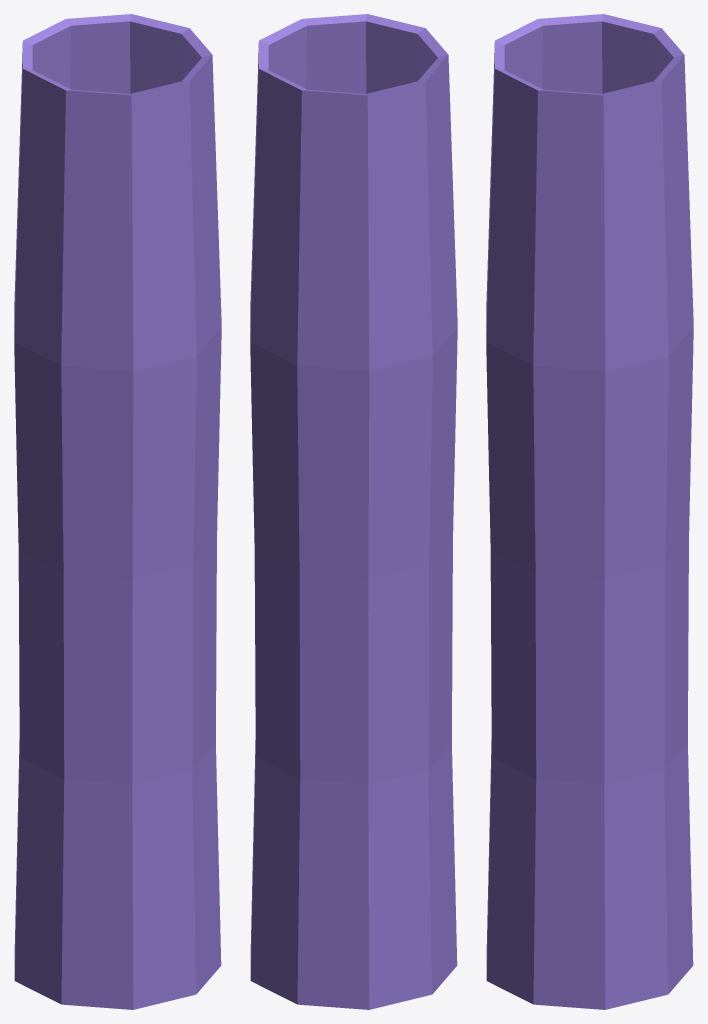
The model's file is basura6.fbx.
3 renders of one model, left to right at view 1: azimuth 30°, elevation 25°; view 2: azimuth 150°, elevation 25°; view 3: azimuth 270°, elevation 25°, orthographic.
Parts seen in each view (by area): view 1: Cylinder; view 2: Cylinder; view 3: Cylinder.
Boxes of the visible parts, x1,y1,x2,y2 form: Cylinder: (14,14,221,1009); Cylinder: (250,14,457,1009); Cylinder: (486,14,693,1009).
Bounding box in the file's own units: 92.45 × 442 × 91.04.
